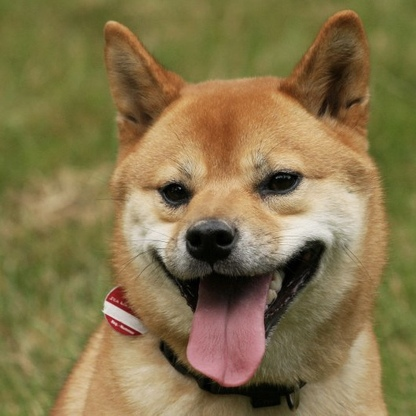shiba: (45, 6, 390, 416)
